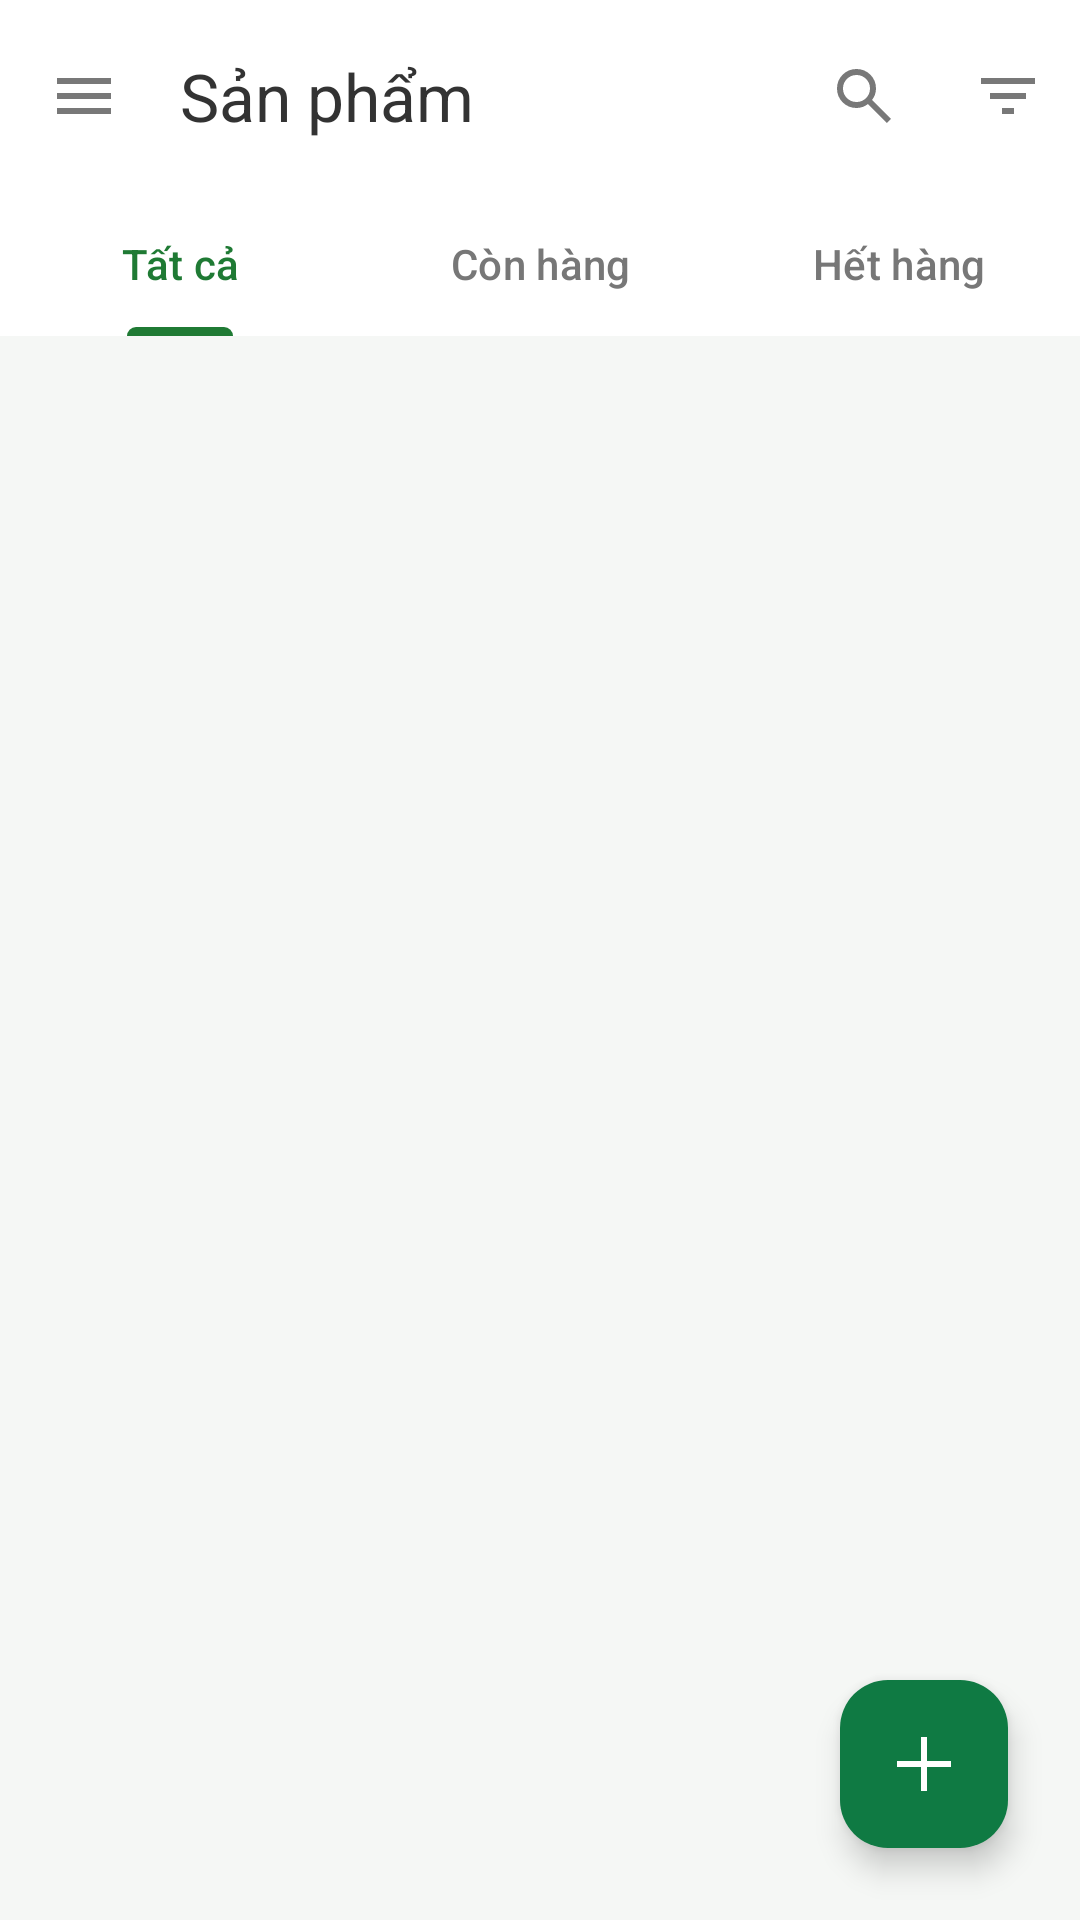

Named icons in this screenshot (1080w x 1920h) and their centers, (x=x, y=y):
Floating Add Button: (x=924, y=1764)
